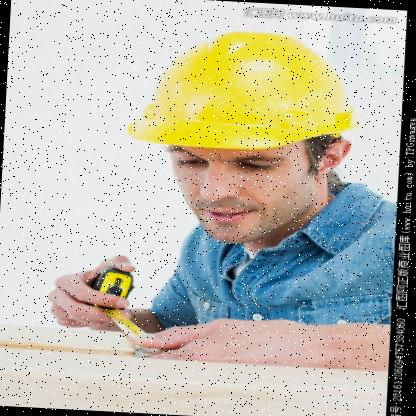capacete: (119, 20, 361, 248), (117, 176, 400, 354)
